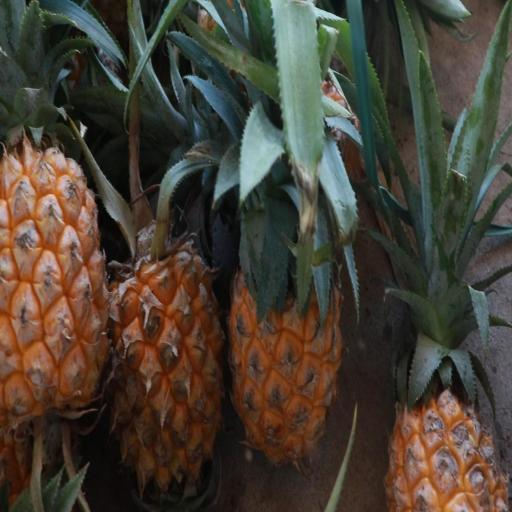Pineapple - v8 v1: (101, 192, 230, 512), (226, 151, 352, 476), (2, 127, 116, 447), (382, 291, 512, 512)
